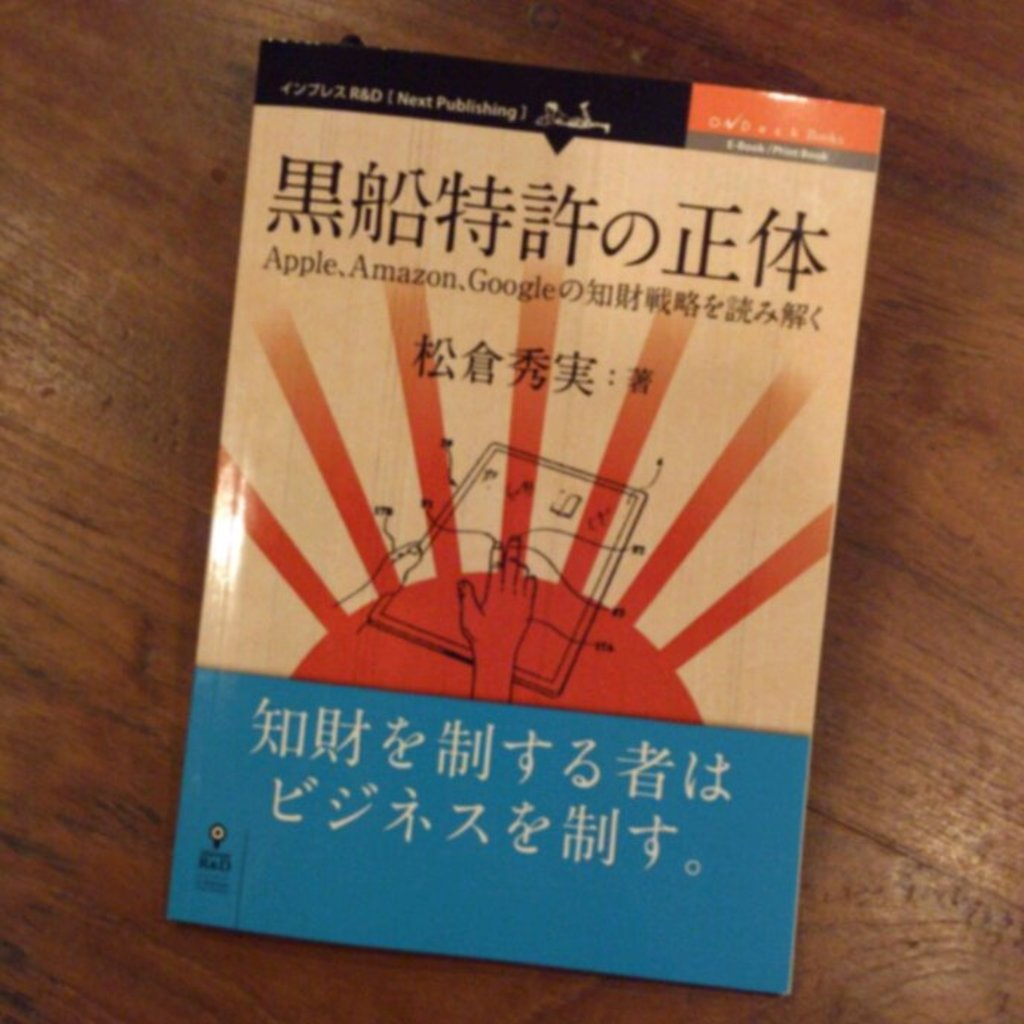Book: (103, 24, 895, 990)
